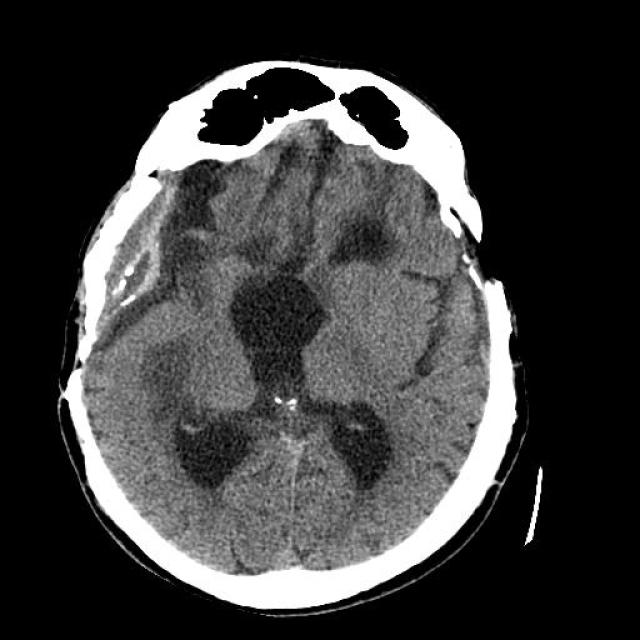Subdural: (70, 138, 229, 358)
